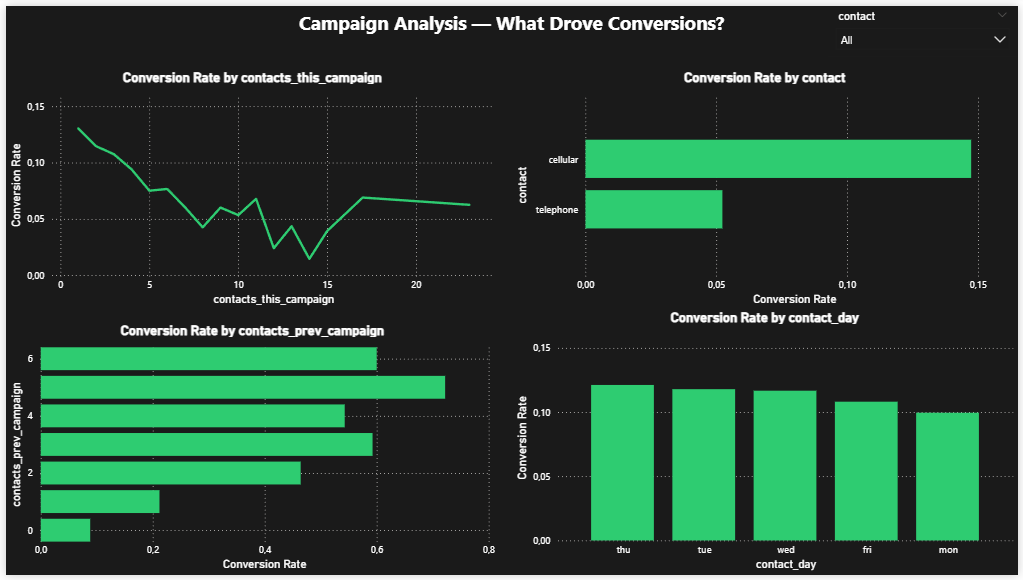

The page's visual inventory and layout, read from the dashboard file:
{"tool":"powerbi","page":{"name":" Campaign Analysis","canvas":[1280,720],"ordinal":2},"visuals":[{"type":"textbox","box":[0,0,1280,80],"z":0},{"type":"lineChart","fields":{"Y":["bank_telemarketing_cleaned.Conversion Rate"],"Category":["bank_telemarketing_cleaned.contacts_this_campaign"]},"box":[0,80,624,304],"z":1000},{"type":"clusteredBarChart","fields":{"Category":["bank_telemarketing_cleaned.contact"],"Y":["bank_telemarketing_cleaned.Conversion Rate"]},"box":[640,80,640,304],"z":2000},{"type":"clusteredBarChart","fields":{"Y":["bank_telemarketing_cleaned.Conversion Rate"],"Category":["bank_telemarketing_cleaned.contacts_prev_campaign"]},"box":[0,400,624,320],"z":3000},{"type":"clusteredColumnChart","fields":{"Y":["bank_telemarketing_cleaned.Conversion Rate"],"Category":["bank_telemarketing_cleaned.contact_day"]},"box":[640,384,640,336],"z":4000},{"type":"slicer","fields":{"Values":["bank_telemarketing_cleaned.contact"]},"box":[1040,0,240,64],"z":5000}]}

Visuals, with their boxes in screenshot pixels (x1, y1, x2, y2), scaled from the page's 1280x720 canvas onto the 1023x580 screenshot:
textbox: 0, 0, 1022, 64
lineChart - bank_telemarketing_cleaned.Conversion Rate x bank_telemarketing_cleaned.contacts_this_campaign: 0, 64, 499, 309
clusteredBarChart - bank_telemarketing_cleaned.contact x bank_telemarketing_cleaned.Conversion Rate: 512, 64, 1022, 309
clusteredBarChart - bank_telemarketing_cleaned.Conversion Rate x bank_telemarketing_cleaned.contacts_prev_campaign: 0, 322, 499, 579
clusteredColumnChart - bank_telemarketing_cleaned.Conversion Rate x bank_telemarketing_cleaned.contact_day: 512, 309, 1022, 579
slicer - bank_telemarketing_cleaned.contact: 831, 0, 1022, 52
